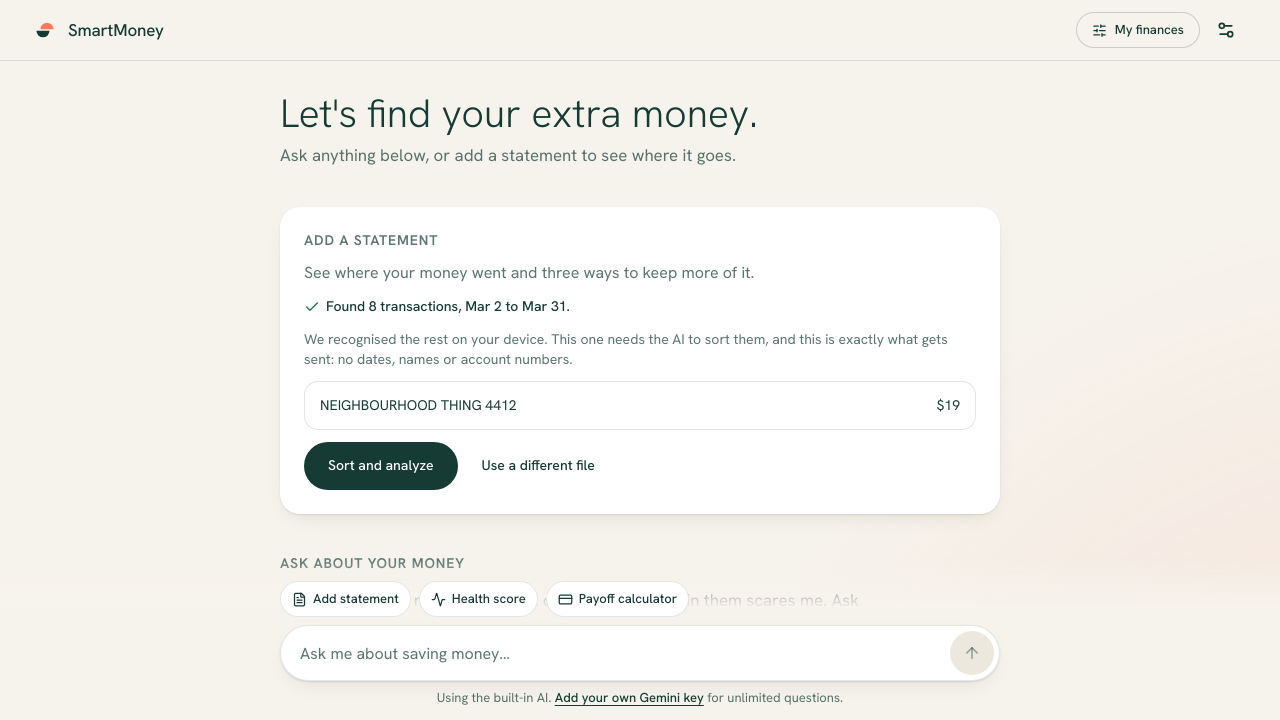
it: statements › still analyses when sorting fails, and says so
Earlier steps of the test are not shown.
Click the button "Sort and analyze" at (381, 466), box [304,442,458,490]
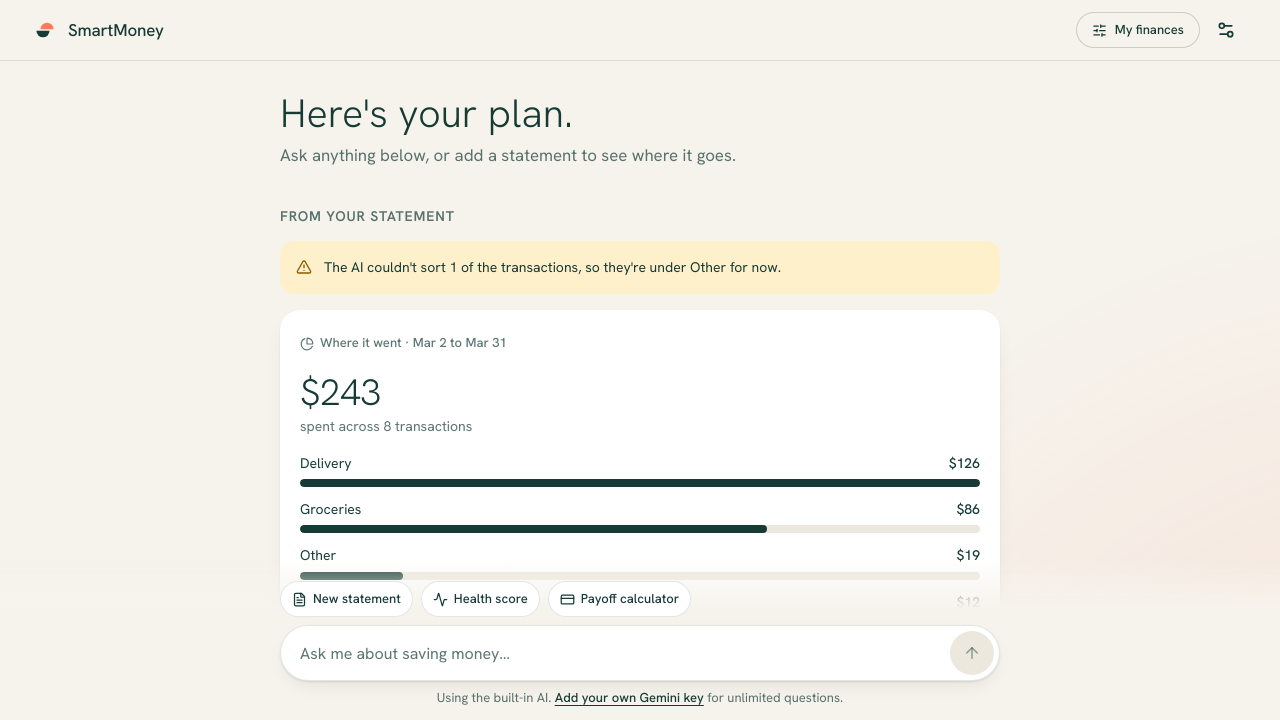
Result: the text "couldn't sort 1 of the transactions" is shown at [324,257,781,278]
